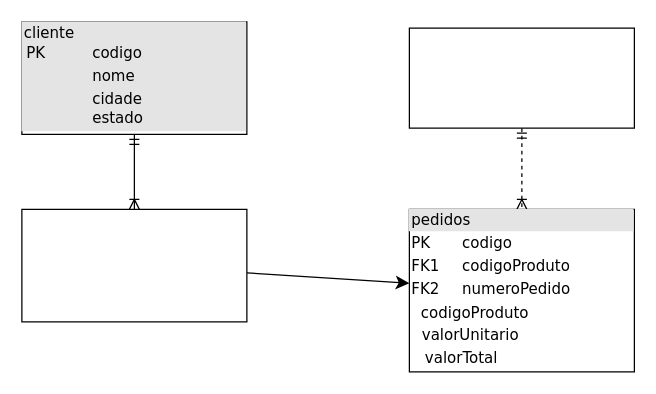
The diagram is 656 pixels wide and 394 high, and some of its shapes have lost their labels. The box of each missing label's shape, as (x1, y1, x2, y2) in pixels:
pedidos PK numeroPedido FK1 codigoCliente dataEmissao valototal: (21, 208, 247, 322)
produtos PK codigo descricao precoVenda: (408, 27, 634, 128)
